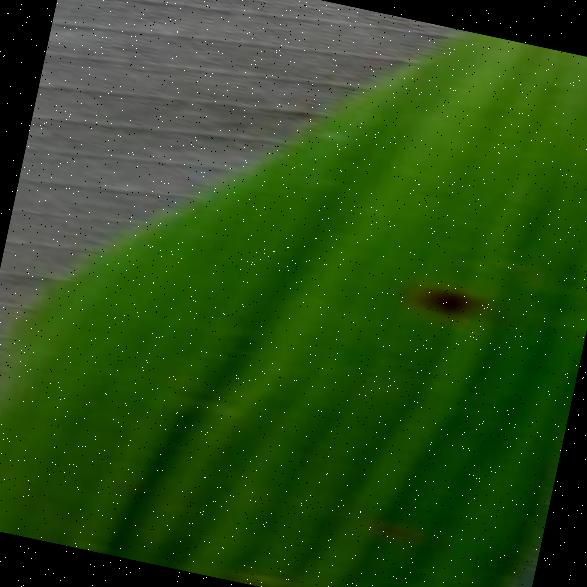Brown_Spot: (395, 252, 500, 344)
